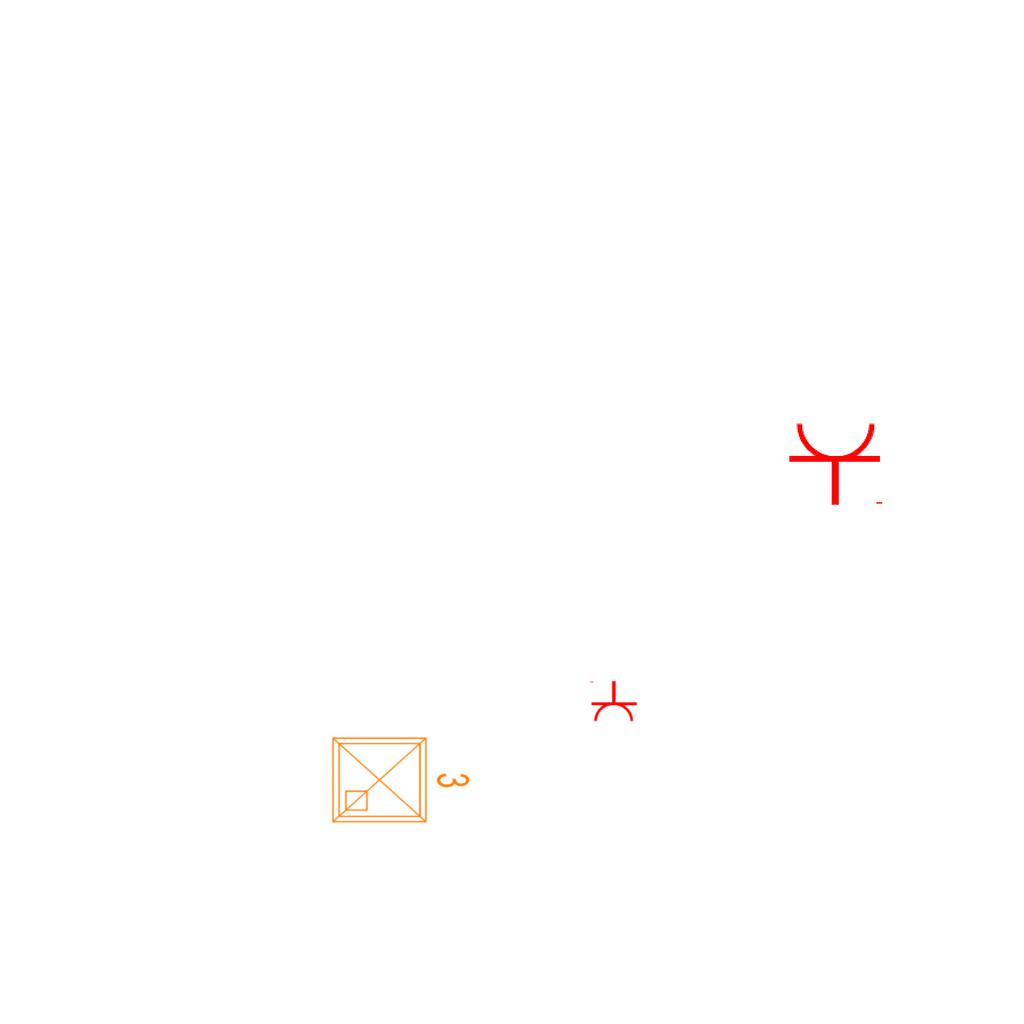Einbaudownlights_LED_Konferenzraeume: (325, 726, 475, 830)
Schukosteckdose_einfach: (787, 420, 887, 507), (588, 680, 638, 723)
